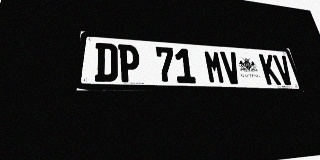1: (173, 48, 196, 83)
7: (154, 47, 177, 83)
D: (94, 43, 118, 82)
K: (259, 54, 281, 85)
M: (203, 50, 226, 84)
P: (118, 44, 140, 82)
V: (220, 51, 242, 84), (272, 55, 295, 85)
